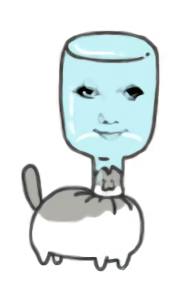dragon: (74, 81, 146, 140)
